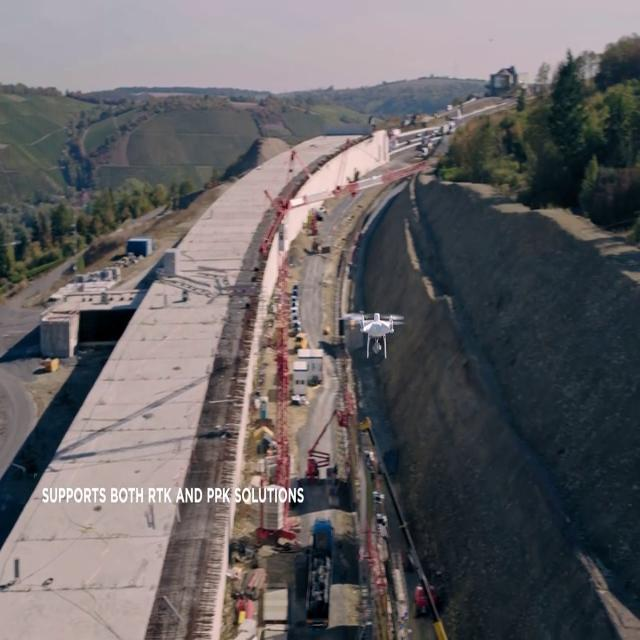drone: (346, 308, 406, 361)
